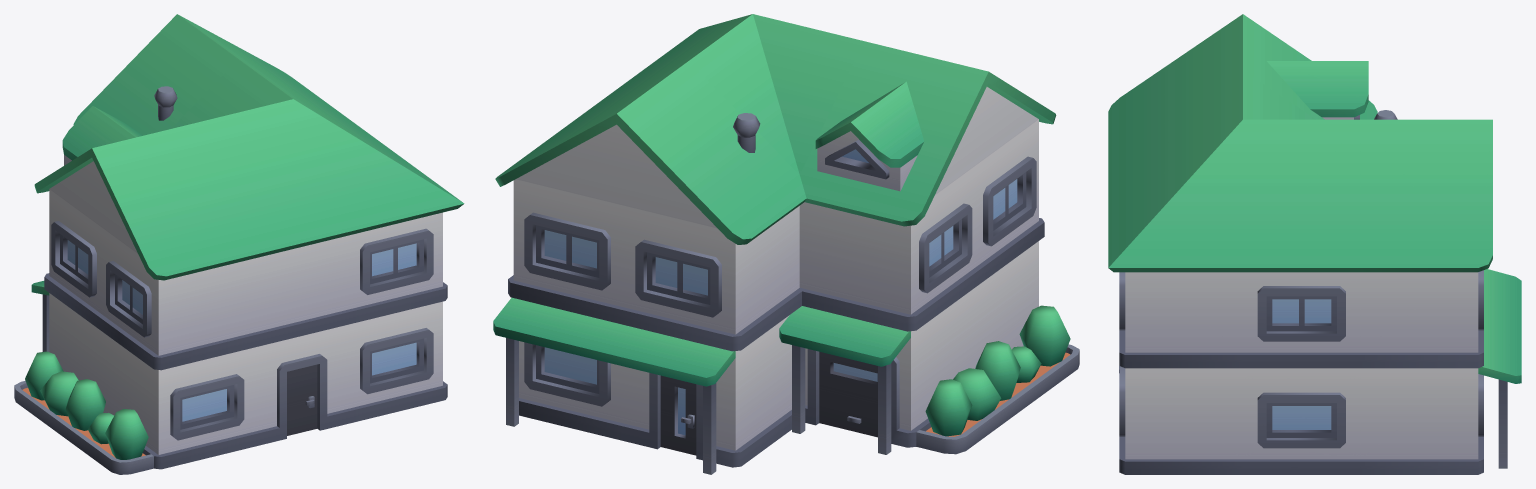
The model's file is house-f.glb.
The picture shows the model from 3 angles, left to right: view 1: azimuth 30°, elevation 25°; view 2: azimuth 150°, elevation 25°; view 3: azimuth 270°, elevation 25°; orthographic projection. The views are drawn at different scales.
Parts seen in each view (by area): view 1: building-type-f; view 2: building-type-f; view 3: building-type-f.
Part boxes in pixels (x1,y1,x2,y2): building-type-f: (14, 14, 464, 474); building-type-f: (493, 14, 1079, 474); building-type-f: (1108, 14, 1521, 474).
Bounding box in the file's own units: 1.43 × 1.14 × 1.41.
1 material, 1 textured.
